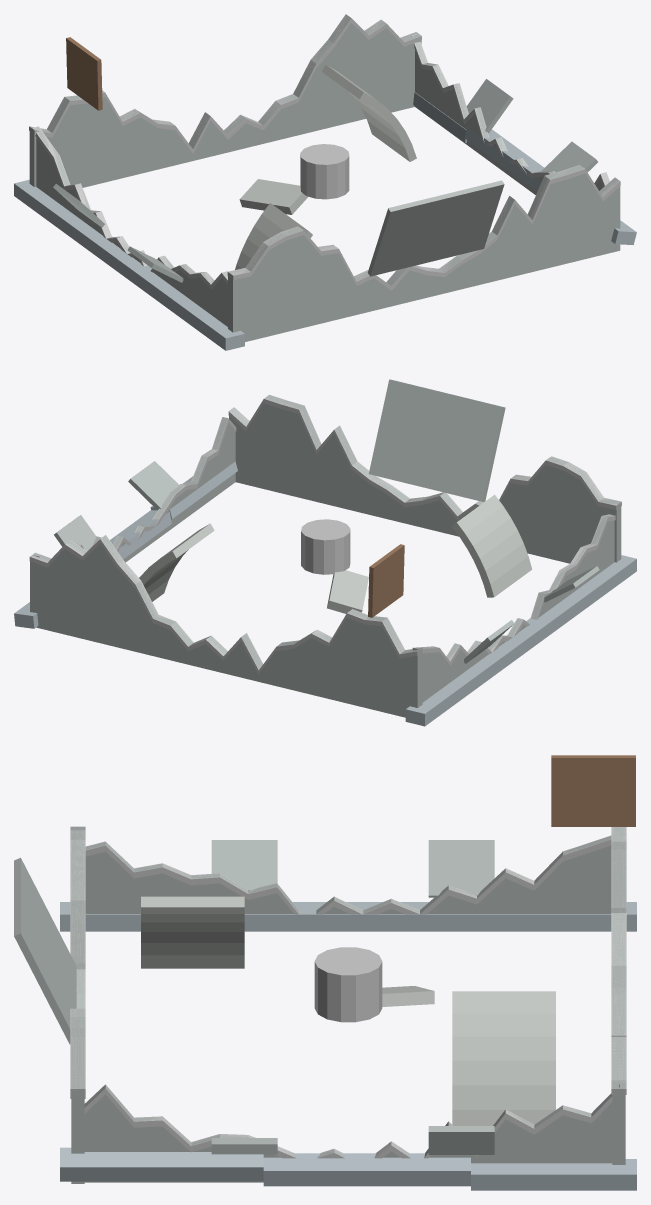
The model's file is body.obj.
3 renders of one model, top to bottom at view 1: azimuth 30°, elevation 25°; view 2: azimuth 150°, elevation 25°; view 3: azimuth 270°, elevation 25°, orthographic. The views are drawn at different scales.
Bounding box in the file's own units: 7.46 × 2.32 × 6.61.
